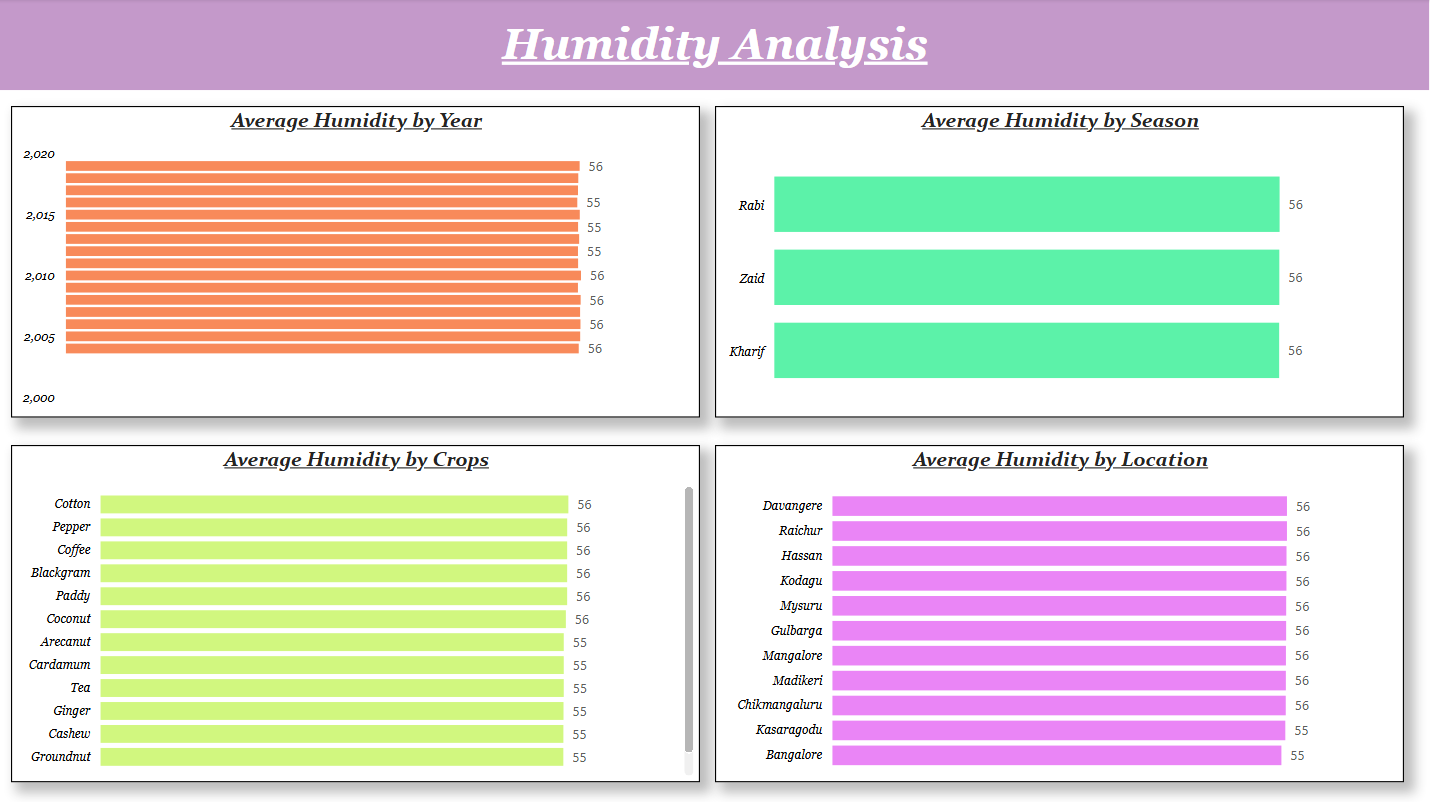

What the dashboard file says about the page in this screenshot:
{"tool":"powerbi","page":{"name":"Humidity Analysis","canvas":[1280,720],"ordinal":2},"visuals":[{"type":"shape","box":[0,0,1280,81.7],"z":0},{"type":"barChart","title":"Average Humidity by Year","fields":{"Category":["AGRICULTURE.YEAR"],"Y":["Avg(AGRICULTURE.HUMIDITY)"]},"box":[10.2,95.6,617.1,278.6],"z":1000},{"type":"barChart","title":"Average Humidity by Season","fields":{"Category":["AGRICULTURE.SEASON"],"Y":["Avg(AGRICULTURE.HUMIDITY)"]},"box":[640.5,95.6,617.1,278.6],"z":2000},{"type":"barChart","title":"Average Humidity by Crops","fields":{"Category":["AGRICULTURE.CROPS"],"Y":["Avg(AGRICULTURE.HUMIDITY)"]},"box":[10.2,399.6,617.1,302],"z":3000},{"type":"barChart","title":"Average Humidity by Location","fields":{"Category":["AGRICULTURE.LOCATION"],"Y":["Avg(AGRICULTURE.HUMIDITY)"]},"box":[640.5,399.6,617.1,302],"z":4000}]}

Visuals, with their boxes in screenshot pixels (x1, y1, x2, y2), scaled from the page's 1280x720 canvas onto the 1430x802 screenshot:
shape: left=0, top=0, right=1429, bottom=91
"Average Humidity by Year" barChart: left=11, top=106, right=701, bottom=417
"Average Humidity by Season" barChart: left=716, top=106, right=1405, bottom=417
"Average Humidity by Crops" barChart: left=11, top=445, right=701, bottom=782
"Average Humidity by Location" barChart: left=716, top=445, right=1405, bottom=782
